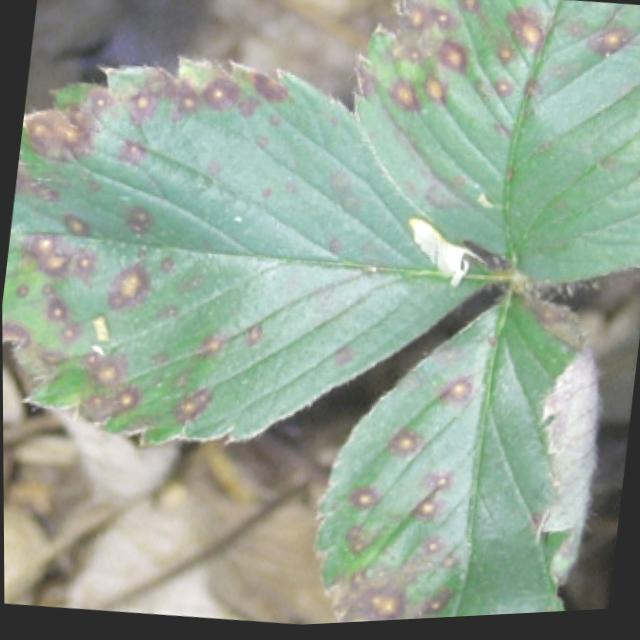Leaf Spot: (2, 53, 498, 449), (311, 291, 604, 627), (353, 0, 640, 290)
